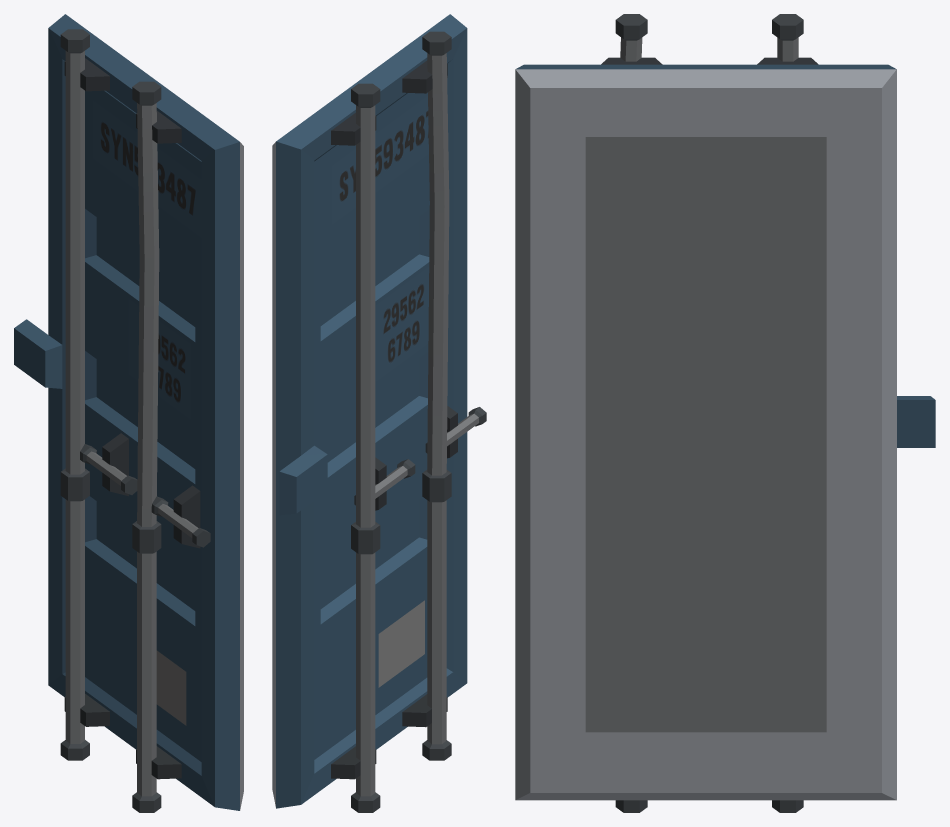
The model's file is SM_Prop_Container_Small_Doors_01_Door_01.fbx.
3 renders of one model, left to right at view 1: azimuth 30°, elevation 25°; view 2: azimuth 150°, elevation 25°; view 3: azimuth 270°, elevation 25°, orthographic. The views are drawn at different scales.
Visible parts, largest first — view 1: SM_Prop_Container_Small_Doors_01_Door_01; view 2: SM_Prop_Container_Small_Doors_01_Door_01; view 3: SM_Prop_Container_Small_Doors_01_Door_01.
Boxes of the visible parts, x1,y1,x2,y2 form: SM_Prop_Container_Small_Doors_01_Door_01: [14, 14, 243, 812]; SM_Prop_Container_Small_Doors_01_Door_01: [272, 14, 486, 812]; SM_Prop_Container_Small_Doors_01_Door_01: [515, 14, 935, 812].
Size of the model in its own units: 21.81 by 244 by 118.
